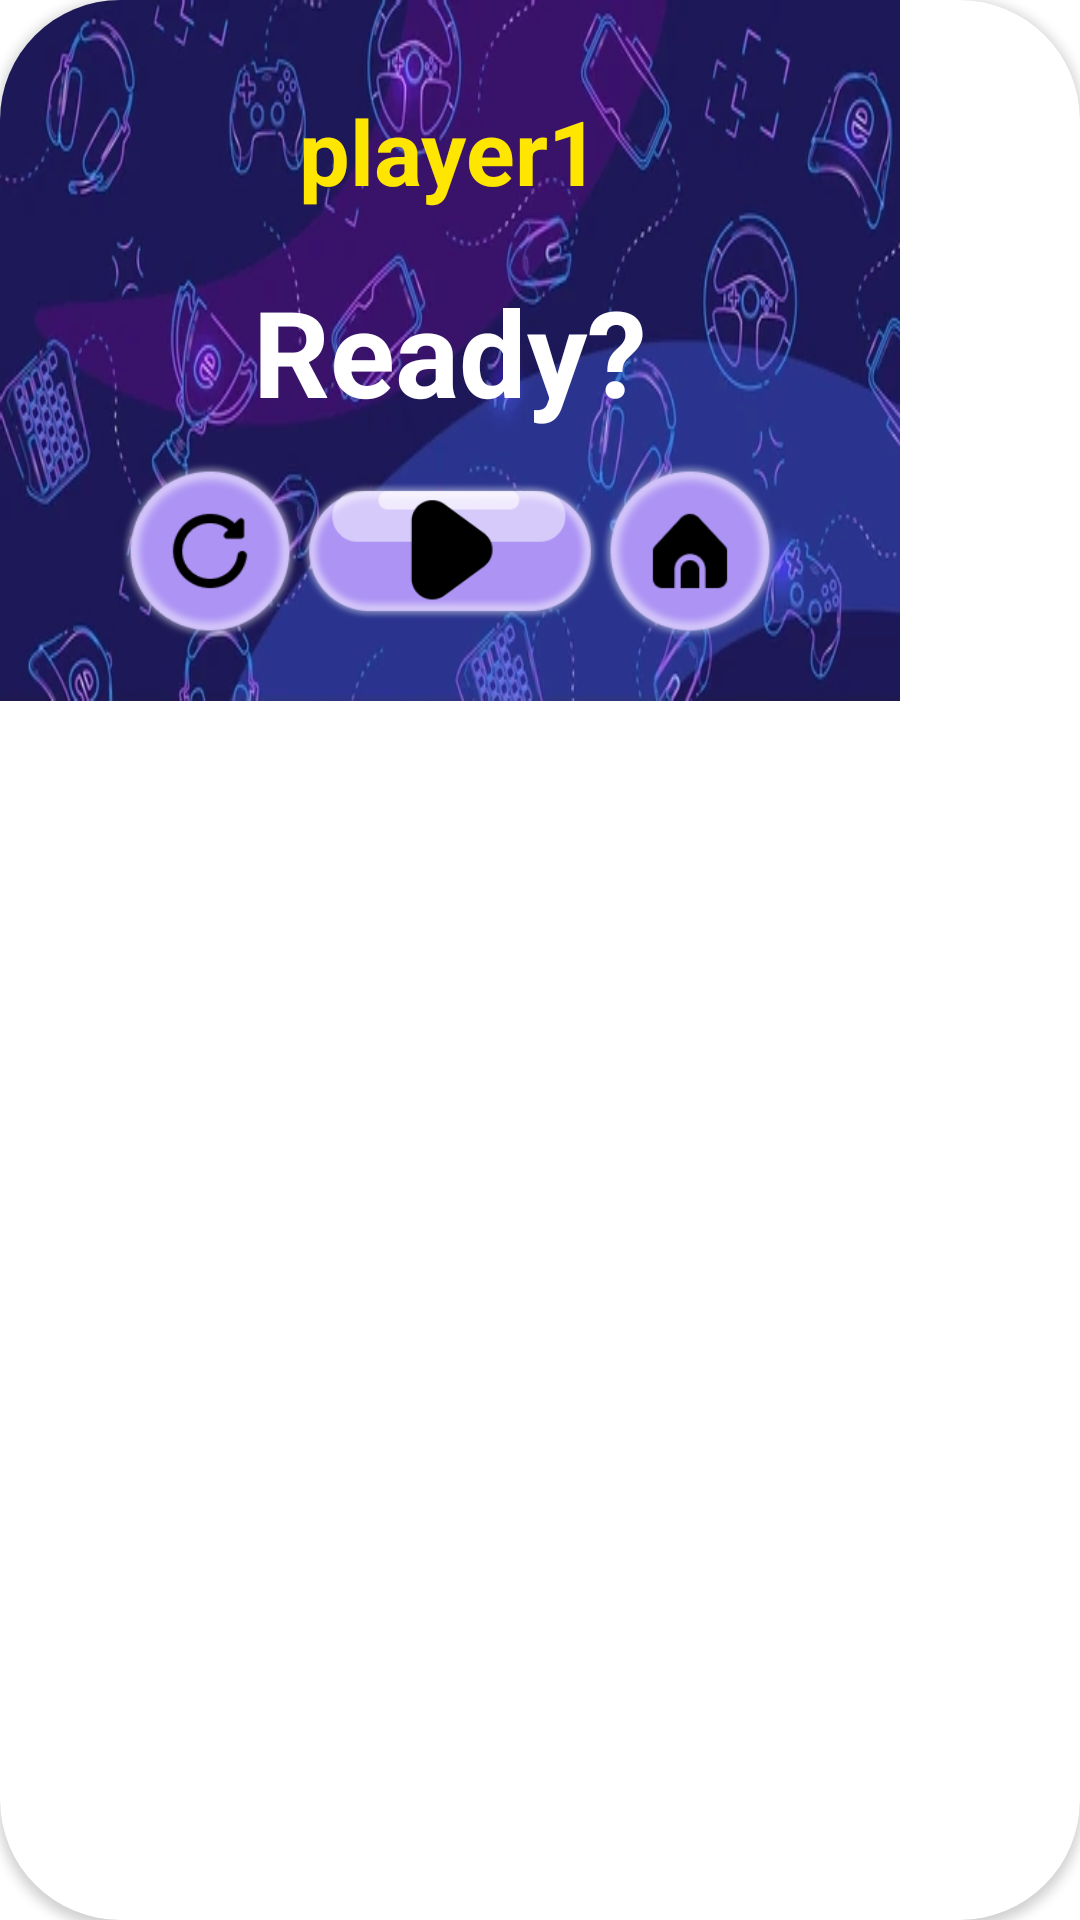

Screen size 1080px×1920px. Icon name, then its box in pixels as (x1, y1, x2, y2):
home: (600, 461, 780, 641)
play: (300, 461, 600, 641)
retry: (120, 461, 300, 641)
